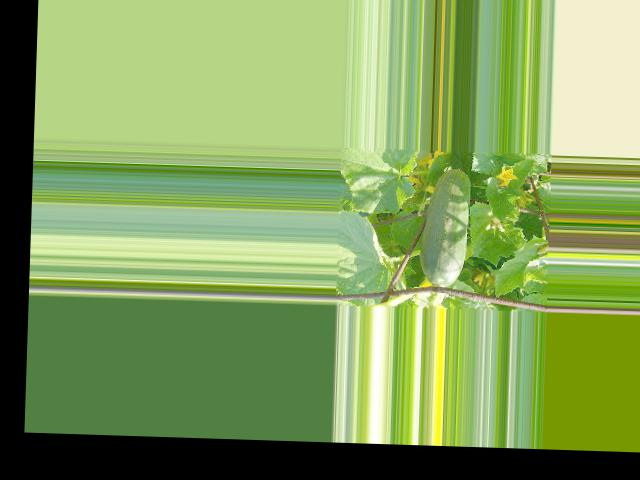cucumber: (417, 167, 471, 287)
